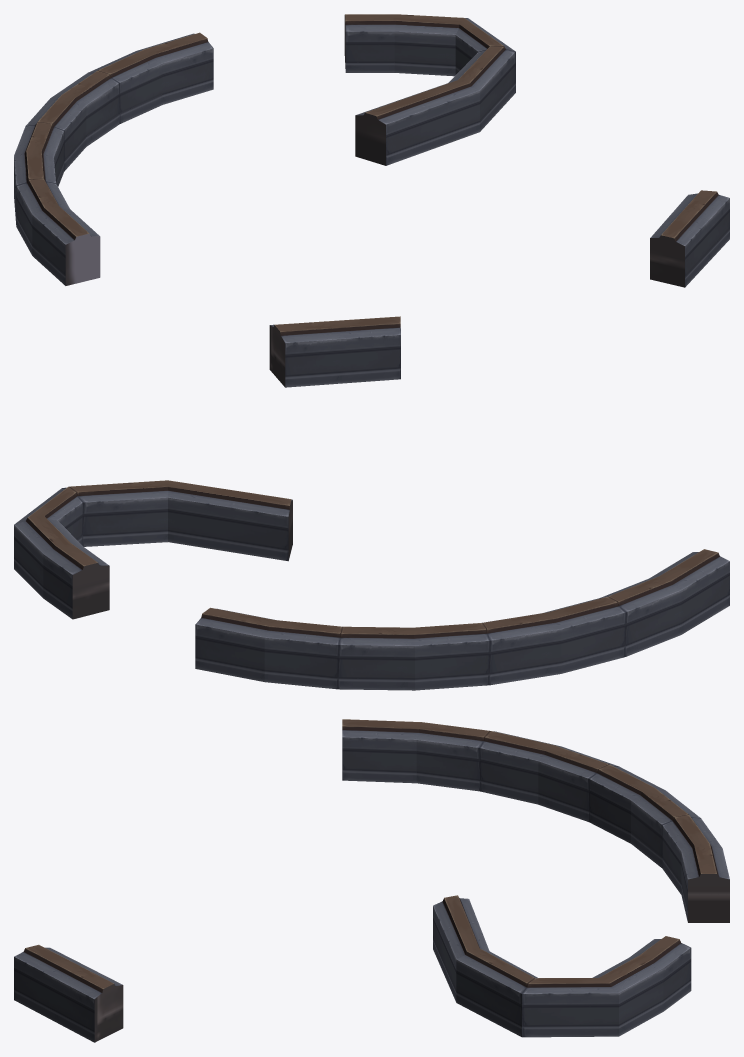
Rendered from cs_yanjiangchengbao_pingtaifb_002.FBX.
The picture shows the model from 3 angles, top to bottom: view 1: azimuth 30°, elevation 25°; view 2: azimuth 150°, elevation 25°; view 3: azimuth 270°, elevation 25°; orthographic projection. The views are drawn at different scales.
Parts seen in each view (by area): view 1: cs_yanjiangchengbao_pingtaifb_002; view 2: cs_yanjiangchengbao_pingtaifb_002; view 3: cs_yanjiangchengbao_pingtaifb_002.
Part boxes in pixels (x1,y1,x2,y2): cs_yanjiangchengbao_pingtaifb_002: (14, 14, 729, 287); cs_yanjiangchengbao_pingtaifb_002: (14, 316, 729, 690); cs_yanjiangchengbao_pingtaifb_002: (14, 719, 729, 1042).
Size of the model in its own units: 32.28 by 34.89 by 2.64.
